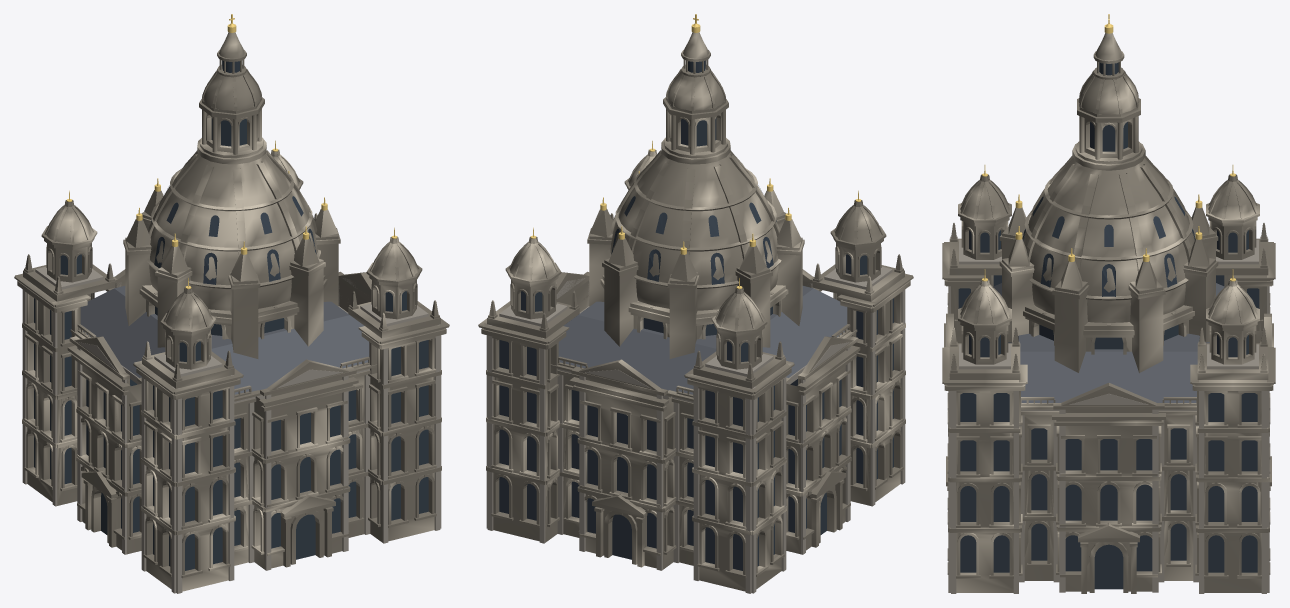
File: frauenkirche.glb
3 views of the same model, side by side, from view 1: azimuth 30°, elevation 25°; view 2: azimuth 150°, elevation 25°; view 3: azimuth 270°, elevation 25° (orthographic). The views are drawn at different scales.
Parts seen in each view (by area): view 1: frauenkirche; view 2: frauenkirche; view 3: frauenkirche.
Boxes of the visible parts, x1=… form: frauenkirche: x1=14, y1=14, x2=449, y2=593; frauenkirche: x1=478, y1=14, x2=913, y2=593; frauenkirche: x1=942, y1=14, x2=1275, y2=593.
Bounding box in the file's own units: 53.8 × 91.1 × 53.8.
